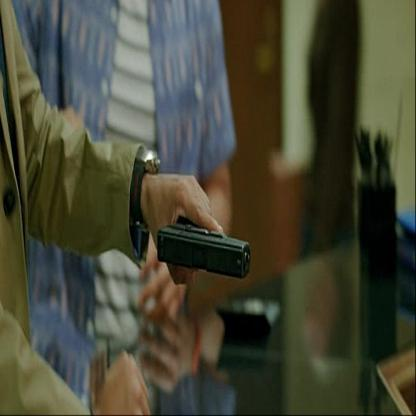gun: (159, 203, 267, 297)
